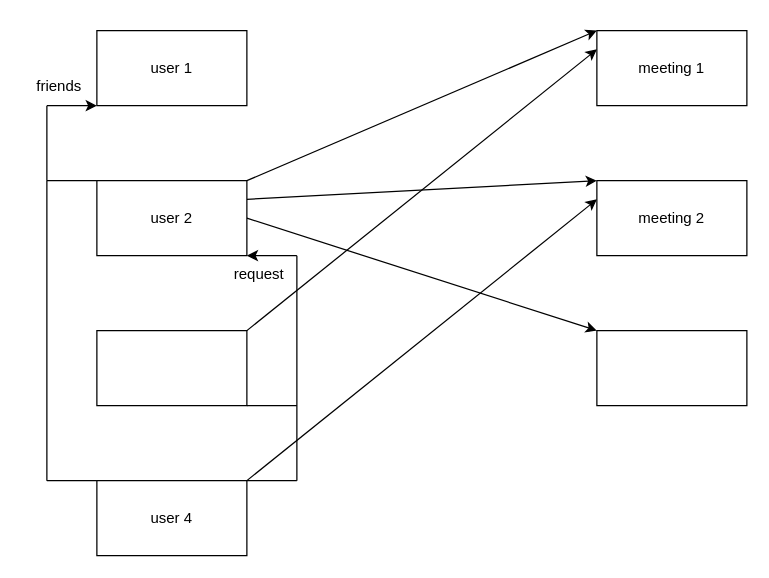
This 769x578 diagram has some shape labels left out. The centre of each missing label's shape, as x and y in pixels:
meeting 3: the point at 671,367
user 3: the point at 171,367
